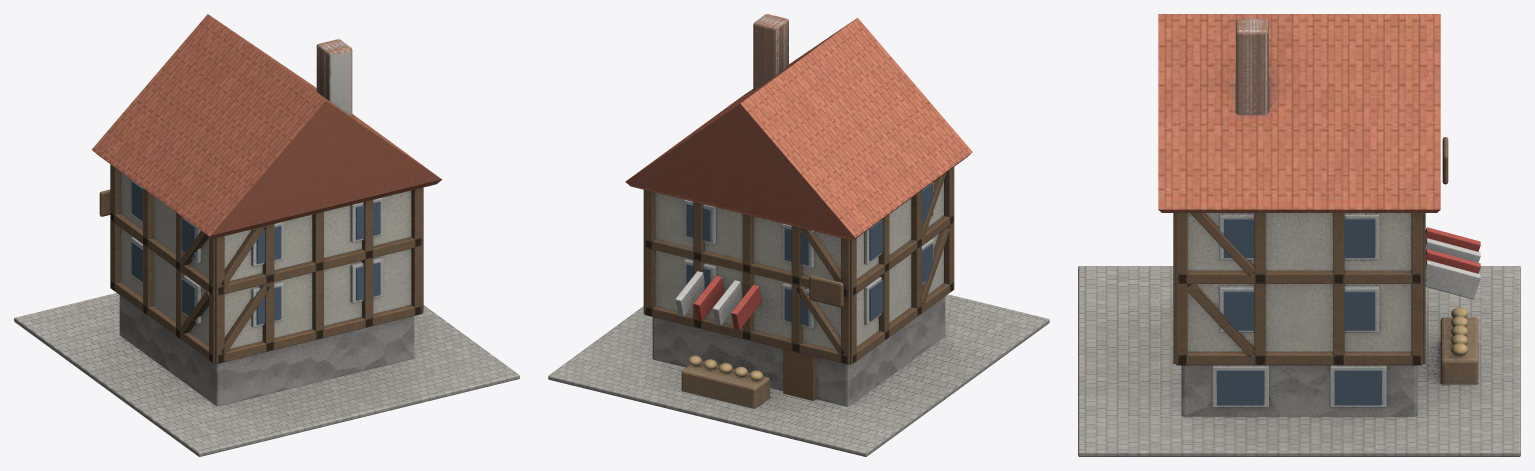
The model's file is baeckerei3d.glb.
3 views of the same model, side by side, from view 1: azimuth 30°, elevation 25°; view 2: azimuth 150°, elevation 25°; view 3: azimuth 270°, elevation 25° (orthographic). The views are drawn at different scales.
Visible parts, largest first — view 1: baeckerei3d, baeckerei3d_details; view 2: baeckerei3d, baeckerei3d_details; view 3: baeckerei3d, baeckerei3d_details.
Boxes of the visible parts, x1,y1,x2,y2 form: baeckerei3d: [14, 14, 519, 456]; baeckerei3d_details: [131, 181, 380, 324]; baeckerei3d: [548, 14, 1049, 456]; baeckerei3d_details: [686, 183, 933, 325]; baeckerei3d: [1078, 14, 1520, 456]; baeckerei3d_details: [1217, 219, 1381, 405].
Bounding box in the file's own units: 0.94 × 0.86 × 0.94.
2 materials, 1 textured.
